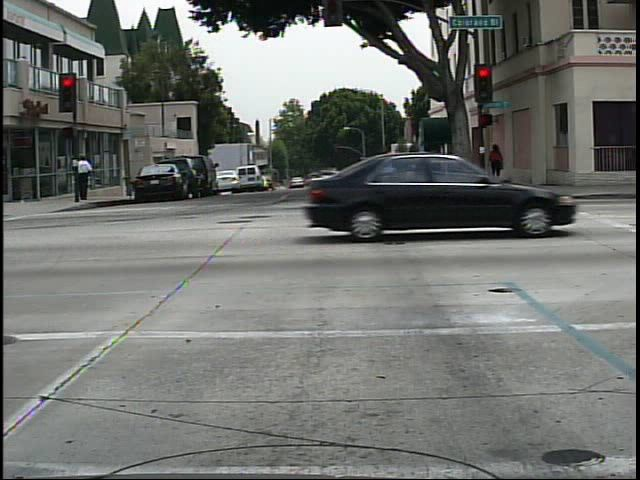person: (78, 147, 100, 204), (486, 138, 508, 180)
